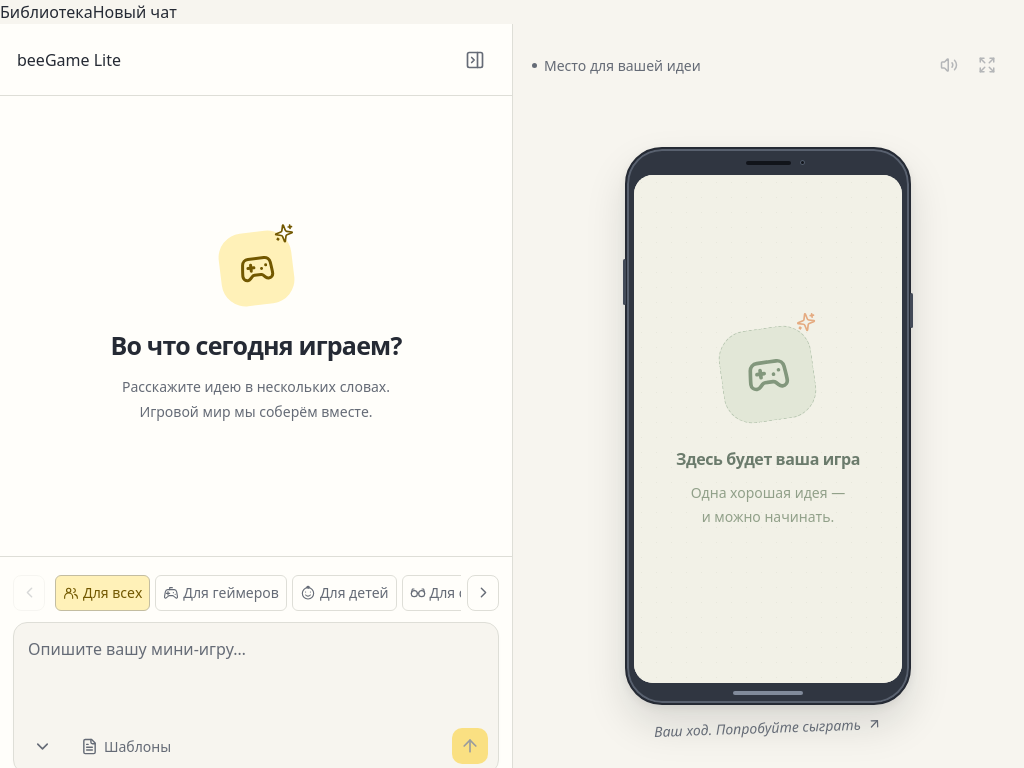
it: recovers from manual template load errors
This screenshot has width=1024, height=768.
Click the button with aria-label "Использовать шаблон" at coordinates (126, 746), box [72, 728, 180, 764]
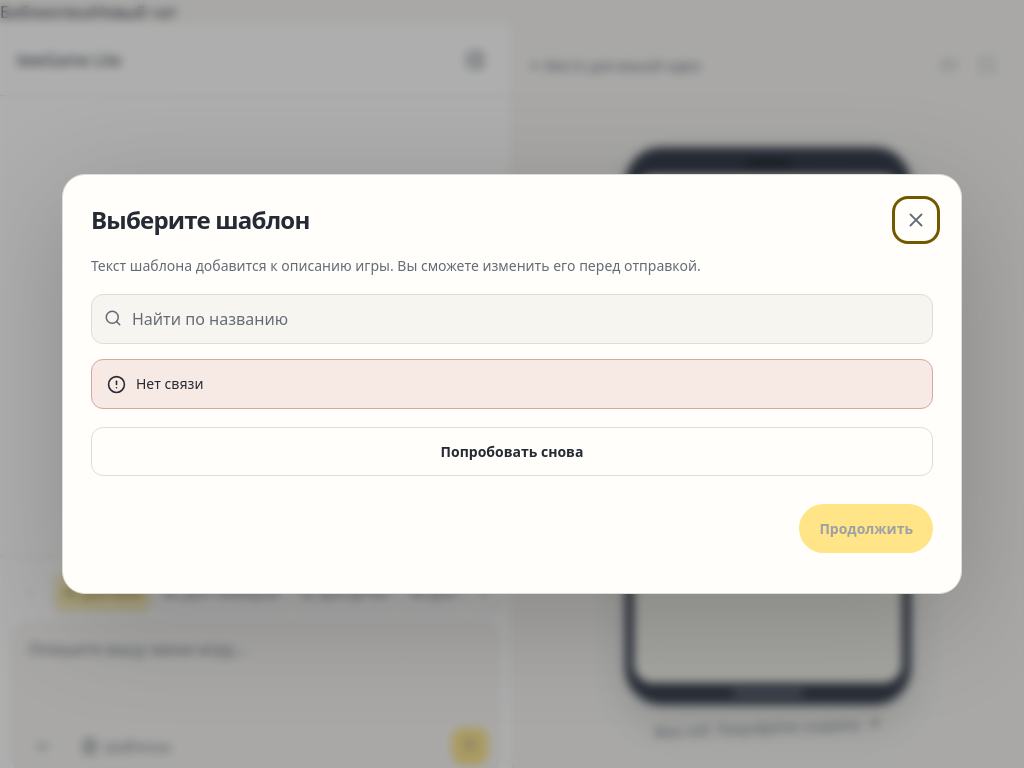
Check: the text "Нет связи" is shown, box [136, 374, 204, 393]
Click the button "Попробовать снова" at coordinates (512, 452), box [91, 427, 933, 476]
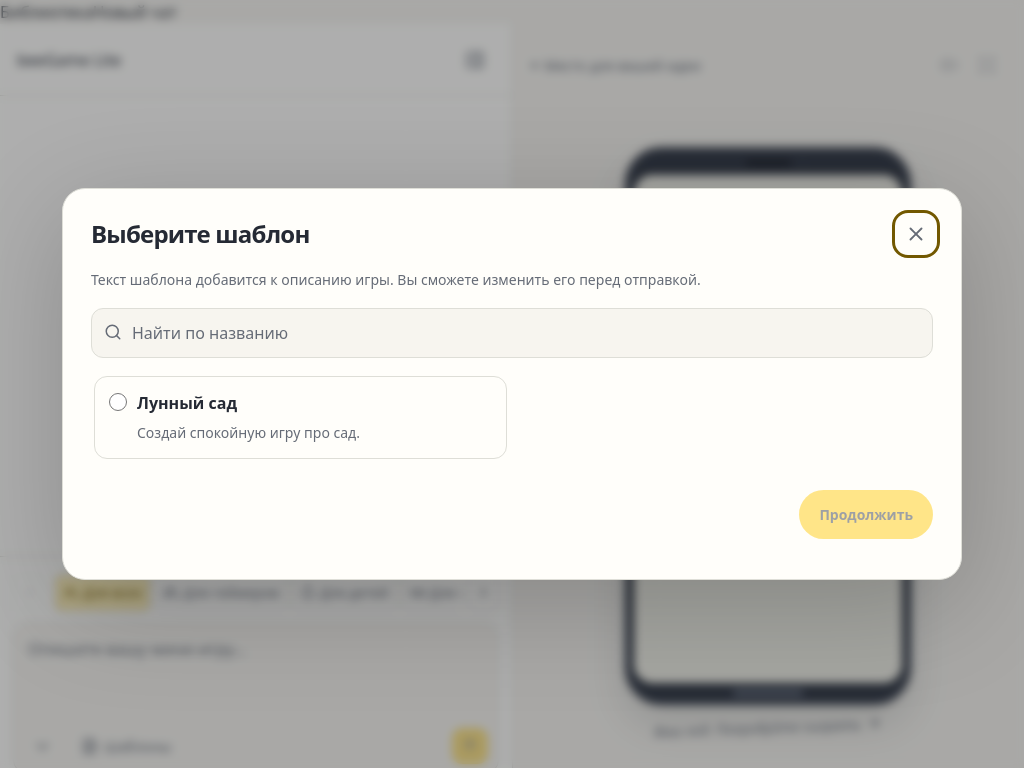
Check: the radio button labelled "Лунный сад" is shown, box [109, 393, 127, 411]
